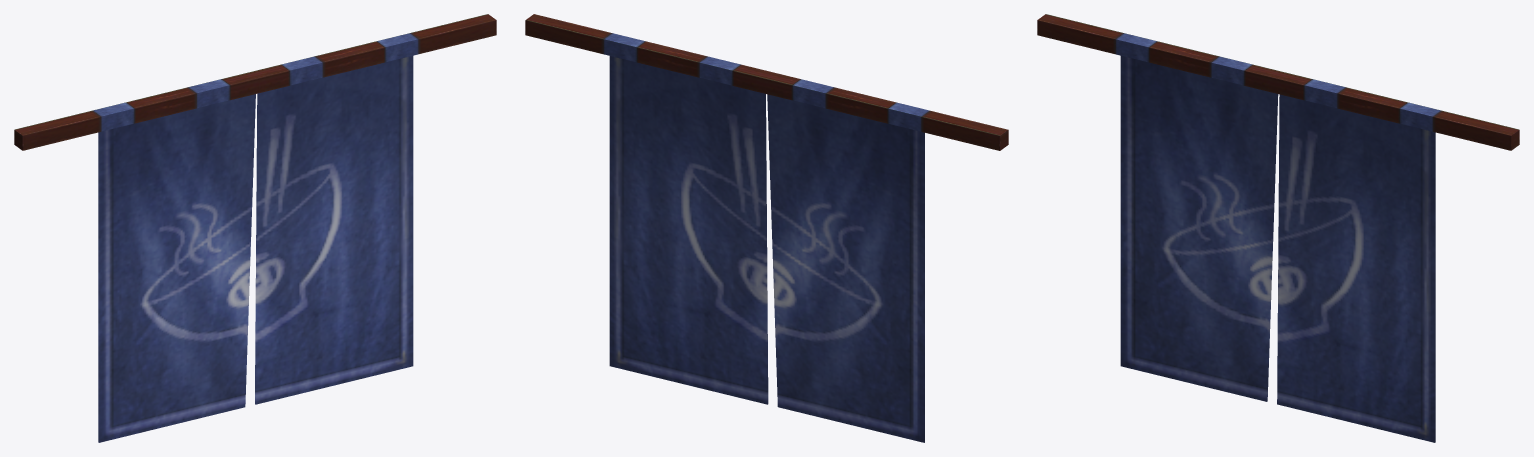
Rendered from YZC_MJ_ZA_06.FBX.
3 renders of one model, left to right at view 1: azimuth 30°, elevation 25°; view 2: azimuth 150°, elevation 25°; view 3: azimuth 330°, elevation 25°, orthographic.
Visible parts, largest first — view 1: YZC_MJ_ZA_06; view 2: YZC_MJ_ZA_06; view 3: YZC_MJ_ZA_06.
Boxes of the visible parts, box(x1,y1,x2,y2) form: YZC_MJ_ZA_06: box(14, 14, 496, 442); YZC_MJ_ZA_06: box(525, 14, 1008, 442); YZC_MJ_ZA_06: box(1037, 14, 1519, 442).
Size of the model in its own units: 144 by 95.54 by 4.47.
